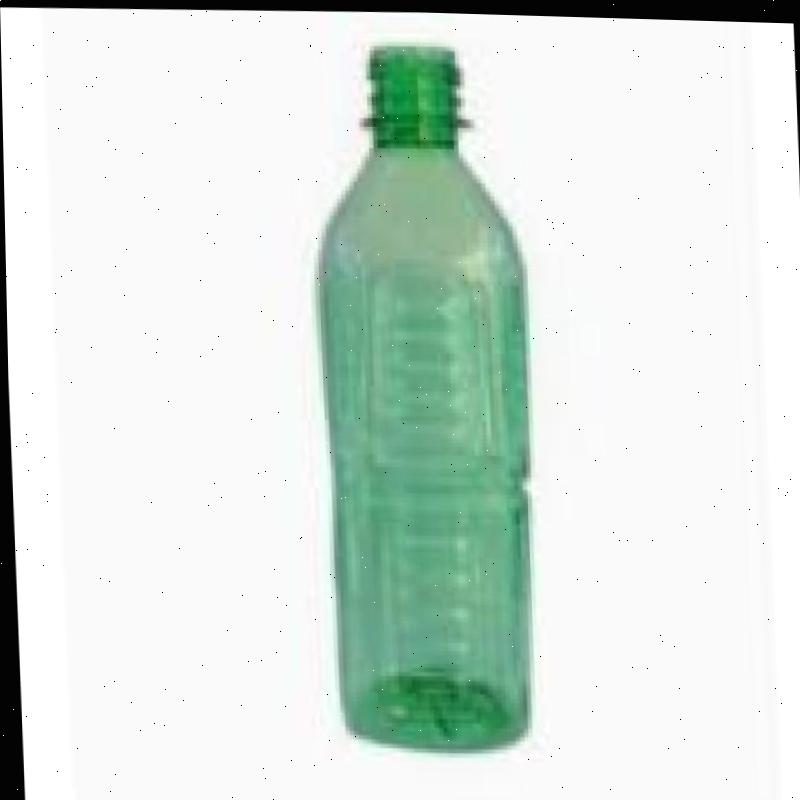botella: (308, 38, 544, 746)
